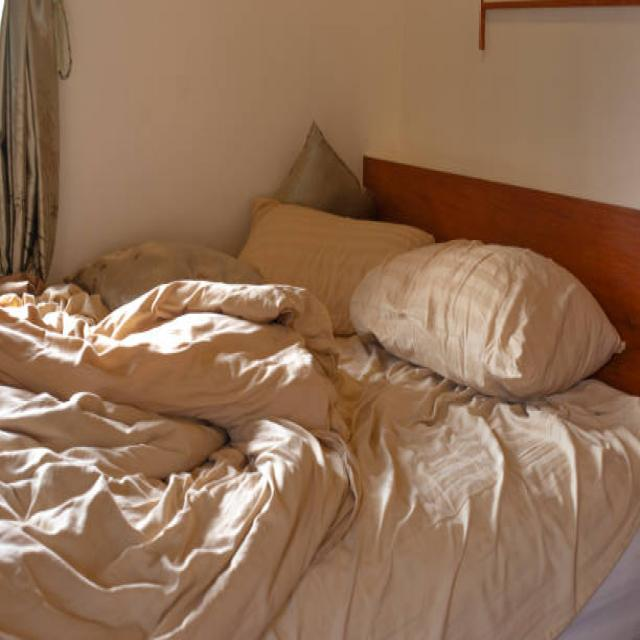bed: (0, 161, 640, 640)
